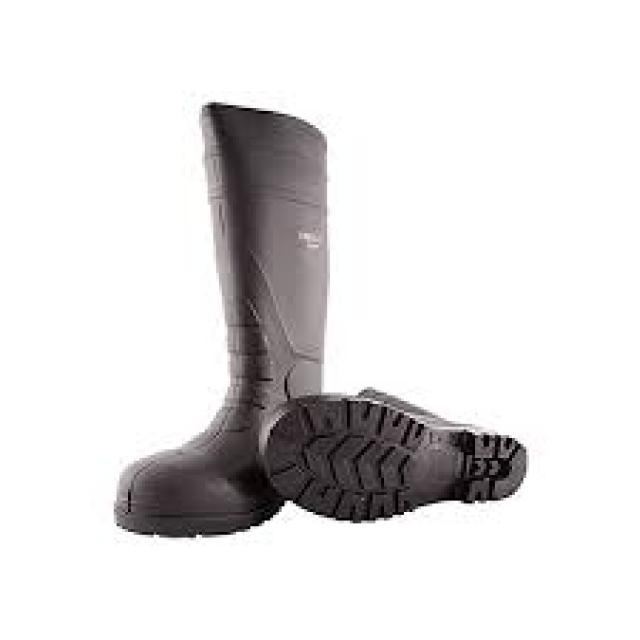shoes: (115, 102, 526, 536)
